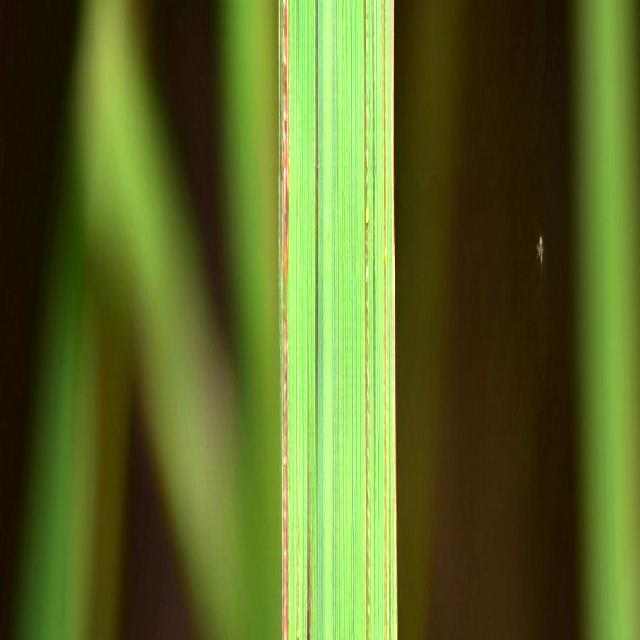BLS: (391, 0, 398, 640), (283, 0, 289, 640), (364, 0, 370, 640), (382, 0, 388, 640), (307, 220, 311, 640), (372, 0, 375, 540), (316, 0, 318, 558), (298, 340, 300, 640), (389, 539, 391, 640)
